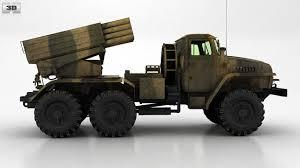MIL_SAM_TEL: (21, 14, 280, 136)
